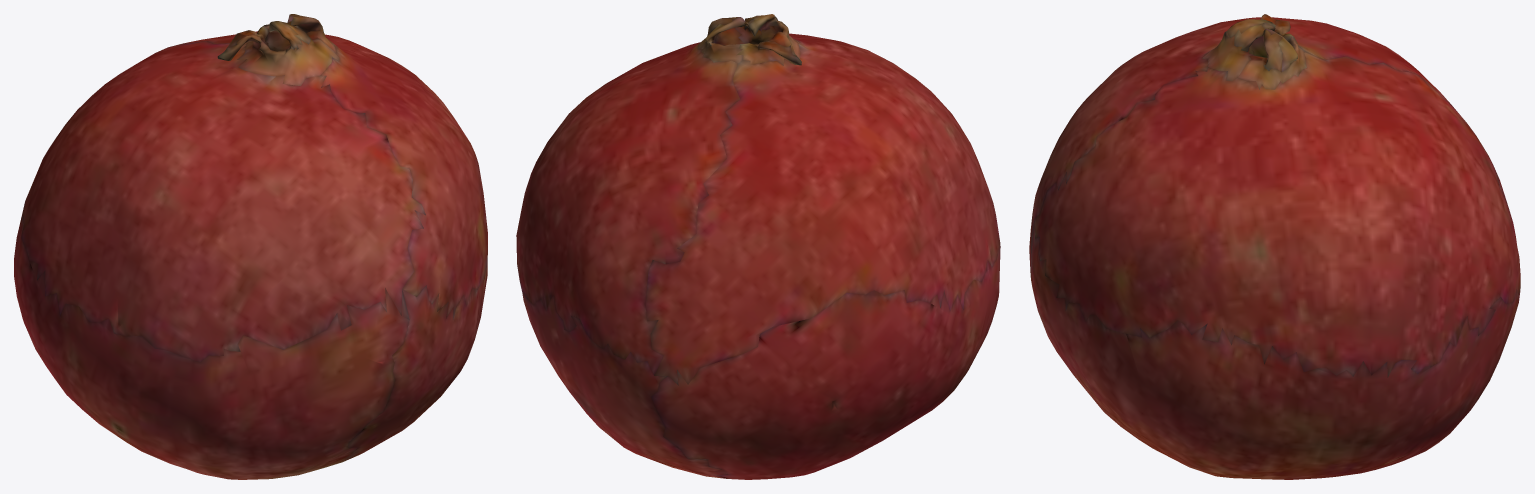
The model's file is ph_food_pomegranate_01.glb.
3 views of the same model, side by side, from view 1: azimuth 30°, elevation 25°; view 2: azimuth 150°, elevation 25°; view 3: azimuth 270°, elevation 25° (orthographic). The views are drawn at different scales.
Parts seen in each view (by area): view 1: food_pomegranate_01; view 2: food_pomegranate_01; view 3: food_pomegranate_01.
Boxes of the visible parts, x1,y1,x2,y2 form: food_pomegranate_01: [14, 14, 487, 479]; food_pomegranate_01: [516, 14, 1000, 479]; food_pomegranate_01: [1029, 14, 1520, 479].
Bounding box in the file's own units: 0.1143 × 0.1148 × 0.1154.
Materials: 1 (1 with a texture image).
